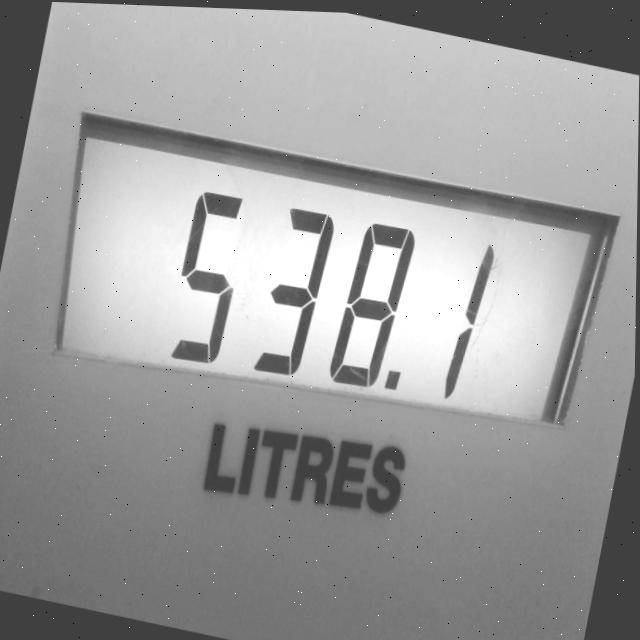.: (380, 353, 405, 399)
1: (418, 220, 522, 419)
3: (238, 183, 341, 384)
5: (142, 177, 268, 374)
8: (316, 204, 420, 392)
